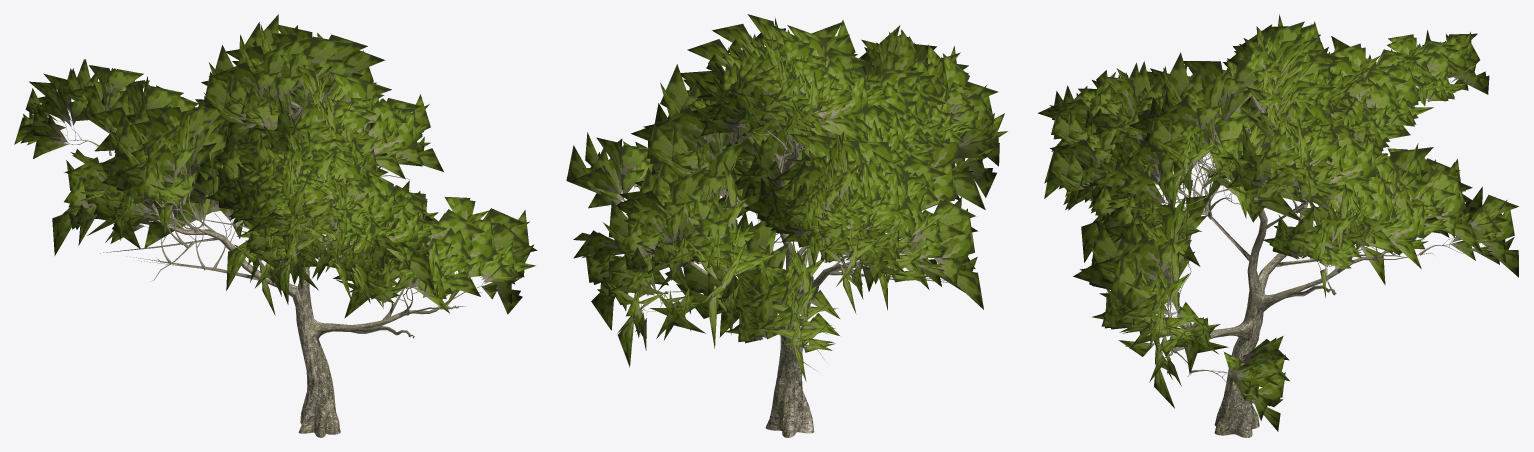
The model's file is oak3.obj.
The picture shows the model from 3 angles, left to right: view 1: azimuth 30°, elevation 25°; view 2: azimuth 150°, elevation 25°; view 3: azimuth 270°, elevation 25°; orthographic projection. The views are drawn at different scales.
Parts seen in each view (by area): view 1: oak leaf, mossybark03; view 2: oak leaf, mossybark03; view 3: oak leaf, mossybark03.
Boxes of the visible parts, x1,y1,x2,y2 form: oak leaf: (14,14,537,318); mossybark03: (56,91,494,437); oak leaf: (566,14,1007,381); mossybark03: (606,93,967,437); oak leaf: (1038,14,1518,431); mossybark03: (1087,77,1482,437).
Bounding box in the file's own units: 1023 × 932 × 1020.
2 materials, 2 textured.
